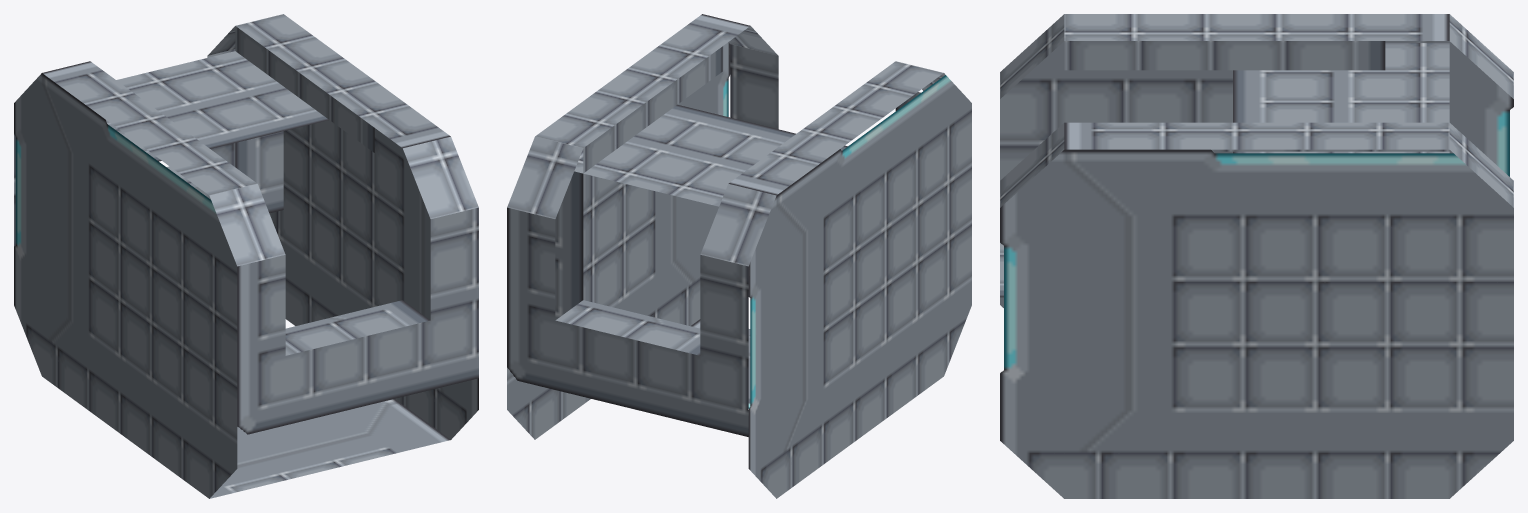
Rendered from relic_chest.obj.
3 renders of one model, left to right at view 1: azimuth 30°, elevation 25°; view 2: azimuth 150°, elevation 25°; view 3: azimuth 270°, elevation 25°, orthographic. The views are drawn at different scales.
Visible parts, largest first — view 1: base1, prismS, rimW, rimE, prismN; view 2: base1, prismN, prismS, rimW, rimE; view 3: base1, prismS, prismN, rimE, rimW.
Part boxes in pixels (x1,y1,x2,y2): base1: (42,51,450,498); prismS: (209,136,478,498); rimW: (42,61,257,220); rimE: (235,14,450,152); prismN: (14,26,283,375); base1: (535,87,943,498); prismN: (507,136,776,498); prismS: (702,26,971,375); rimW: (728,61,943,220); rimE: (535,14,750,173); base1: (1064,43,1449,498); prismS: (1000,14,1064,498); prismN: (1449,14,1513,498); rimE: (1064,122,1449,178); rimW: (1064,14,1449,70).
Bounding box in the file's own units: 0.625 × 0.75 × 1.
